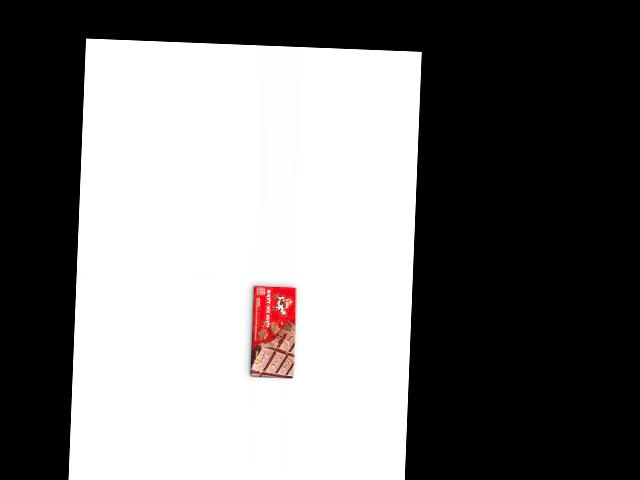chocolate: (246, 283, 299, 380)
